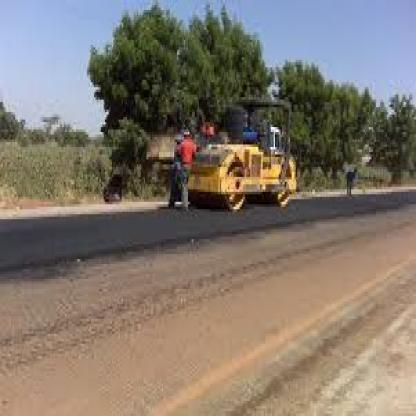car: (165, 89, 300, 220)
